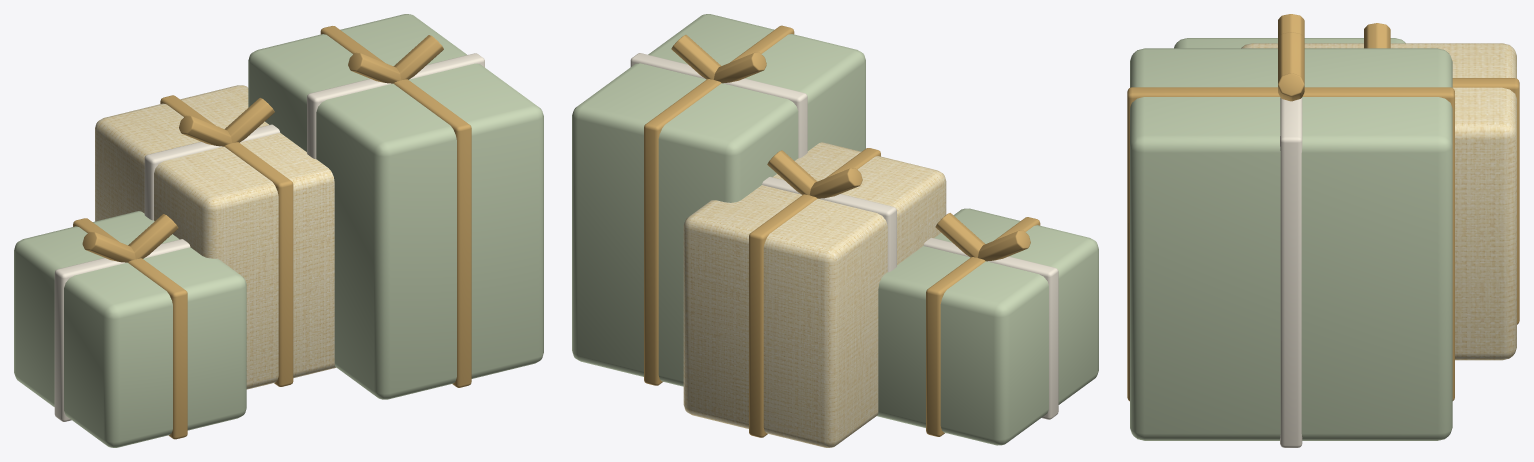
Rendered from wrapped-presents.glb.
The picture shows the model from 3 angles, left to right: view 1: azimuth 30°, elevation 25°; view 2: azimuth 150°, elevation 25°; view 3: azimuth 270°, elevation 25°; orthographic projection. The views are drawn at different scales.
Parts seen in each view (by area): view 1: wrapped-presents; view 2: wrapped-presents; view 3: wrapped-presents.
Boxes of the visible parts, x1,y1,x2,y2 form: wrapped-presents: [14, 14, 543, 447]; wrapped-presents: [572, 14, 1098, 447]; wrapped-presents: [1127, 14, 1519, 447].
Bounding box in the file's own units: 0.65 × 0.43 × 0.44.
4 materials, 1 textured.
